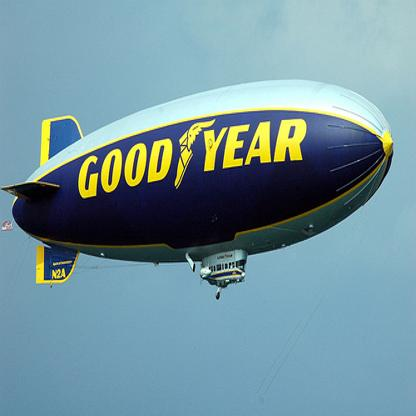Airship: (1, 78, 396, 300)
